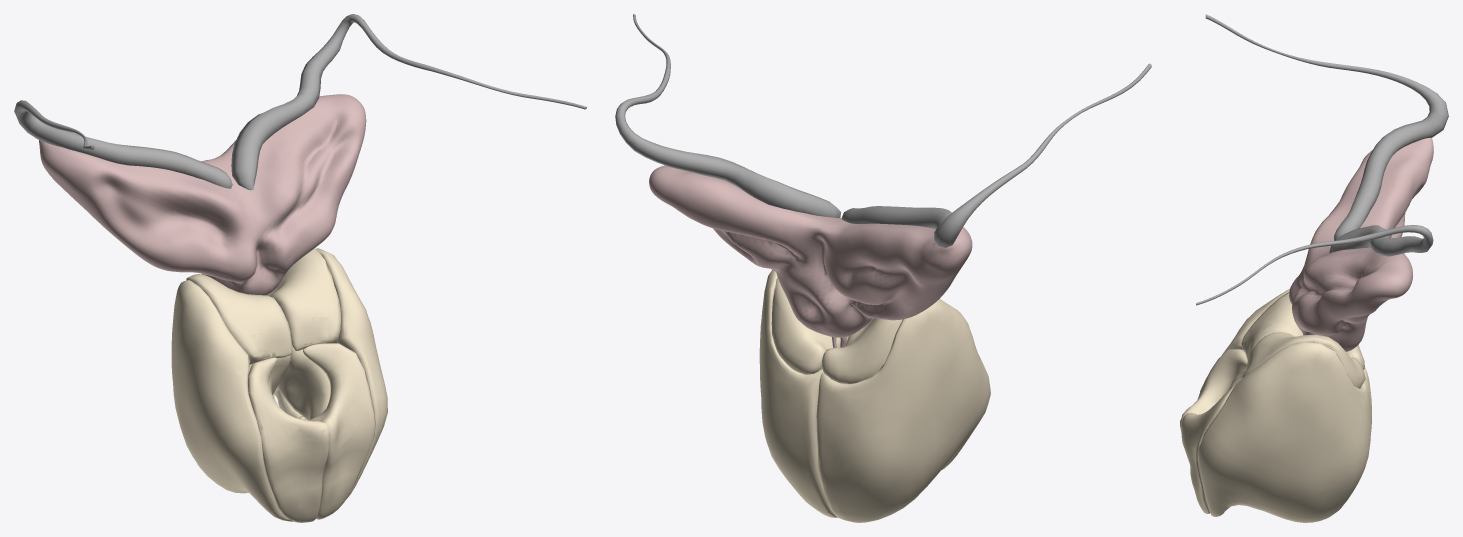
The model's file is VH_M_Prostate.fbx.
The picture shows the model from 3 angles, left to right: view 1: azimuth 30°, elevation 25°; view 2: azimuth 150°, elevation 25°; view 3: azimuth 270°, elevation 25°; orthographic projection. The views are drawn at different scales.
Visible parts, largest first — view 1: VH_M_seminal_vesicle, VH_M_peripheral_zone_of_prostate_R, VH_M_anterior_fibromuscular_stroma_R, VH_M_anterior_fibromuscular_stroma_L, VH_M_vas_deferens_R, VH_M_vas_deferens_L, VH_M_central_zone_of_prostate_L, VH_M_peripheral_zone_of_prostate_L, VH_M_central_zone_of_prostate_R, VH_M_base_of_prostate, VH_M_transition_zone__of_prostate_L; view 2: VH_M_peripheral_zone_of_prostate_R, VH_M_seminal_vesicle, VH_M_peripheral_zone_of_prostate_L, VH_M_vas_deferens_R, VH_M_vas_deferens_L, VH_M_central_zone_of_prostate_R, VH_M_central_zone_of_prostate_L; view 3: VH_M_peripheral_zone_of_prostate_L, VH_M_seminal_vesicle, VH_M_vas_deferens_L, VH_M_vas_deferens_R, VH_M_central_zone_of_prostate_L, VH_M_central_zone_of_prostate_R, VH_M_anterior_fibromuscular_stroma_L, VH_M_anterior_fibromuscular_stroma_R, VH_M_base_of_prostate, VH_M_peripheral_zone_of_prostate_R.
Part boxes in pixels (x1,y1,x2,y2): VH_M_seminal_vesicle: (39,94,366,295); VH_M_peripheral_zone_of_prostate_R: (171,280,293,521); VH_M_anterior_fibromuscular_stroma_R: (248,357,329,522); VH_M_anterior_fibromuscular_stroma_L: (303,343,375,519); VH_M_vas_deferens_R: (231,14,586,190); VH_M_vas_deferens_L: (14,100,232,188); VH_M_central_zone_of_prostate_L: (267,248,340,387); VH_M_peripheral_zone_of_prostate_L: (272,248,387,499); VH_M_central_zone_of_prostate_R: (186,274,292,364); VH_M_base_of_prostate: (235,317,370,454); VH_M_transition_zone__of_prostate_L: (277,346,330,420); VH_M_peripheral_zone_of_prostate_R: (816,299,990,522); VH_M_seminal_vesicle: (649,165,972,337); VH_M_peripheral_zone_of_prostate_L: (759,270,837,517); VH_M_vas_deferens_R: (615,14,841,217); VH_M_vas_deferens_L: (841,63,1151,247); VH_M_central_zone_of_prostate_R: (821,318,902,383); VH_M_central_zone_of_prostate_L: (771,277,848,374); VH_M_peripheral_zone_of_prostate_L: (1197,342,1371,522); VH_M_seminal_vesicle: (1289,138,1433,351); VH_M_vas_deferens_L: (1205,14,1448,240); VH_M_vas_deferens_R: (1196,225,1433,305); VH_M_central_zone_of_prostate_L: (1241,332,1365,388); VH_M_central_zone_of_prostate_R: (1241,292,1364,369); VH_M_anterior_fibromuscular_stroma_L: (1181,379,1240,513); VH_M_anterior_fibromuscular_stroma_R: (1180,349,1247,443); VH_M_base_of_prostate: (1182,325,1253,447); VH_M_peripheral_zone_of_prostate_R: (1200,289,1371,409).
Size of the model in its own units: 8.3 by 7.06 by 4.28.
